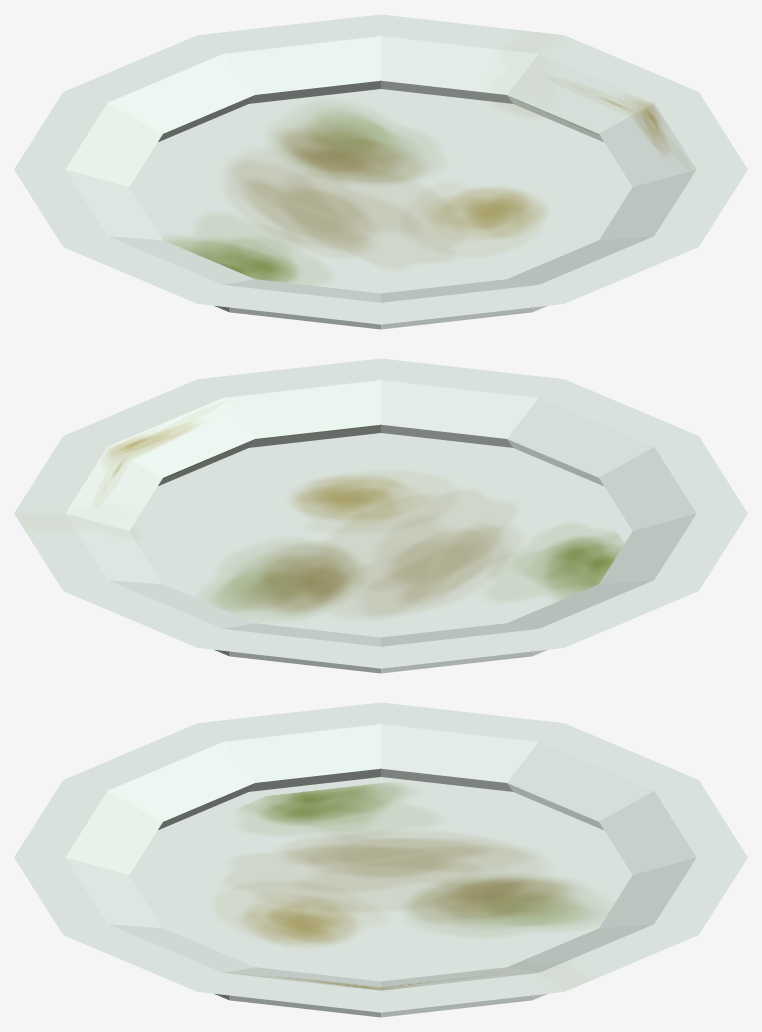
The model's file is Tabak.fbx.
3 renders of one model, top to bottom at view 1: azimuth 30°, elevation 25°; view 2: azimuth 150°, elevation 25°; view 3: azimuth 270°, elevation 25°, orthographic.
Parts seen in each view (by area): view 1: Cylinder.012; view 2: Cylinder.012; view 3: Cylinder.012.
Part boxes in pixels (left/top/right/bottom): Cylinder.012: left=14, top=14, right=747, bottom=329; Cylinder.012: left=14, top=358, right=747, bottom=673; Cylinder.012: left=14, top=702, right=747, bottom=1017.
Bounding box in the file's own units: 76.37 × 3.67 × 76.37.
